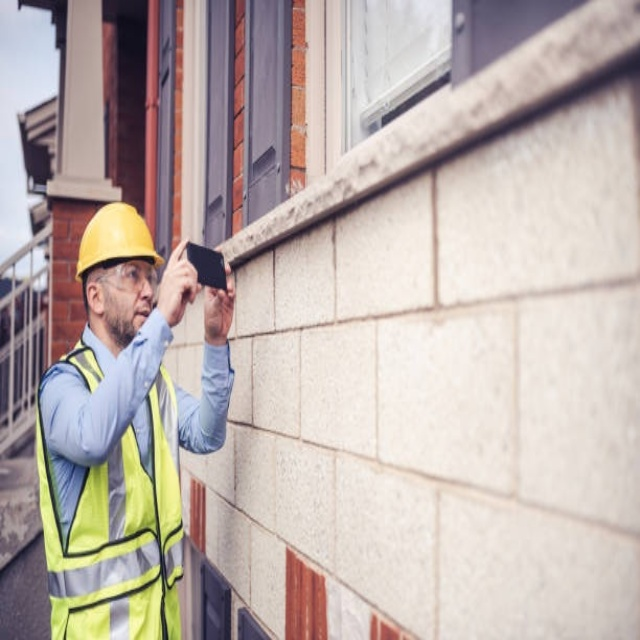Gafas: (92, 261, 157, 290)
Sin_guantes: (157, 235, 198, 317), (201, 256, 237, 340)
Sin_mascara: (124, 301, 150, 333)
